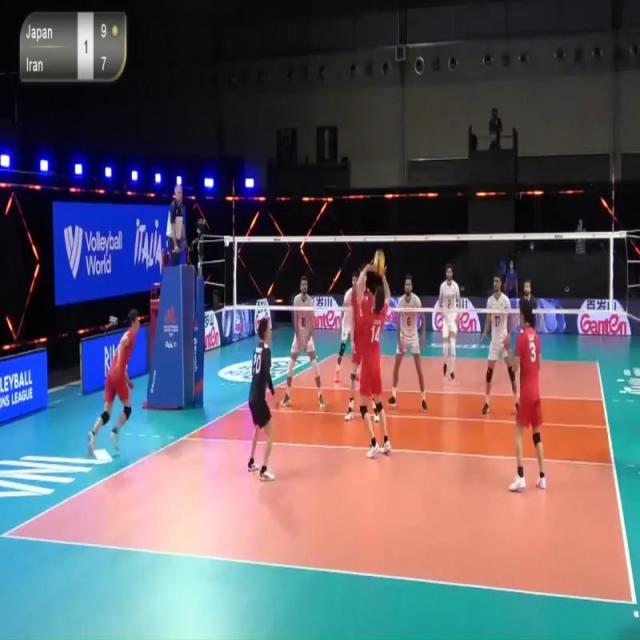volleyball: (372, 249, 386, 273)
